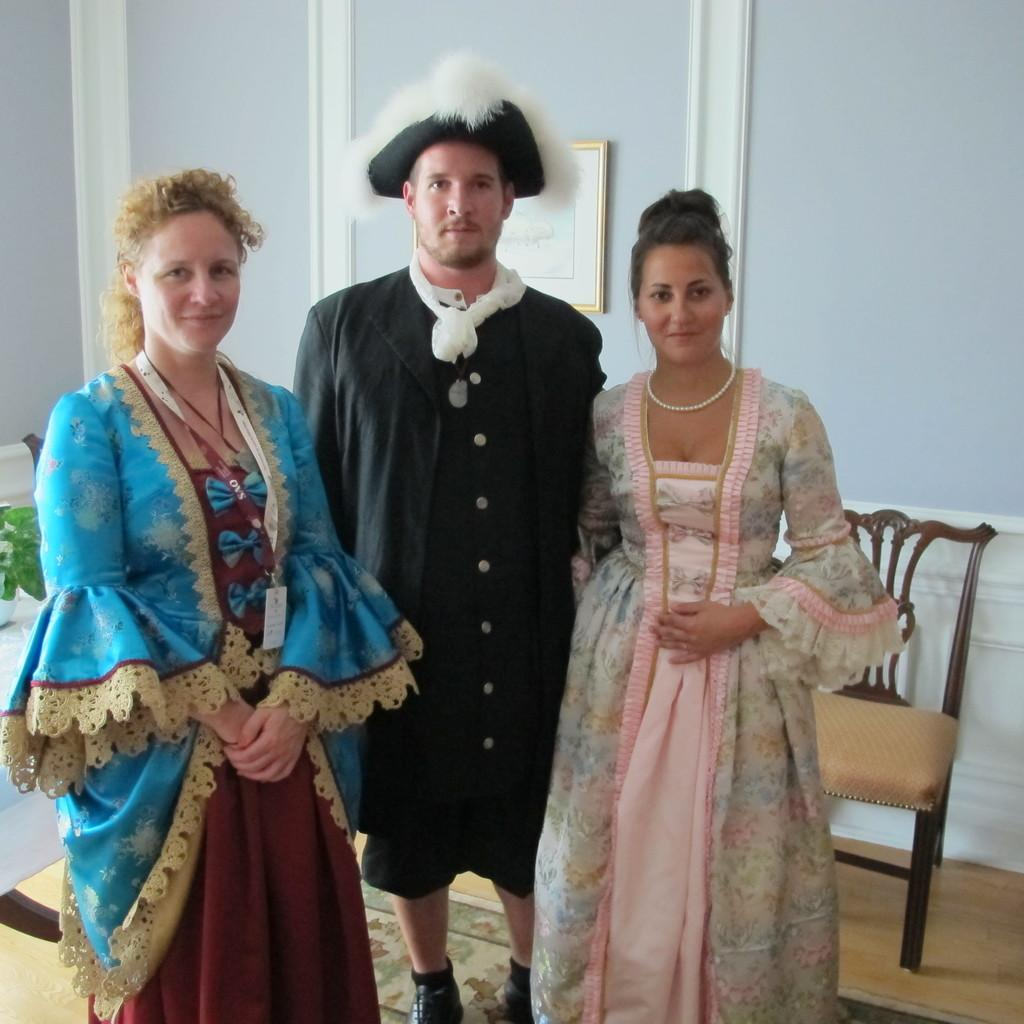Hat: (332, 42, 578, 210)
